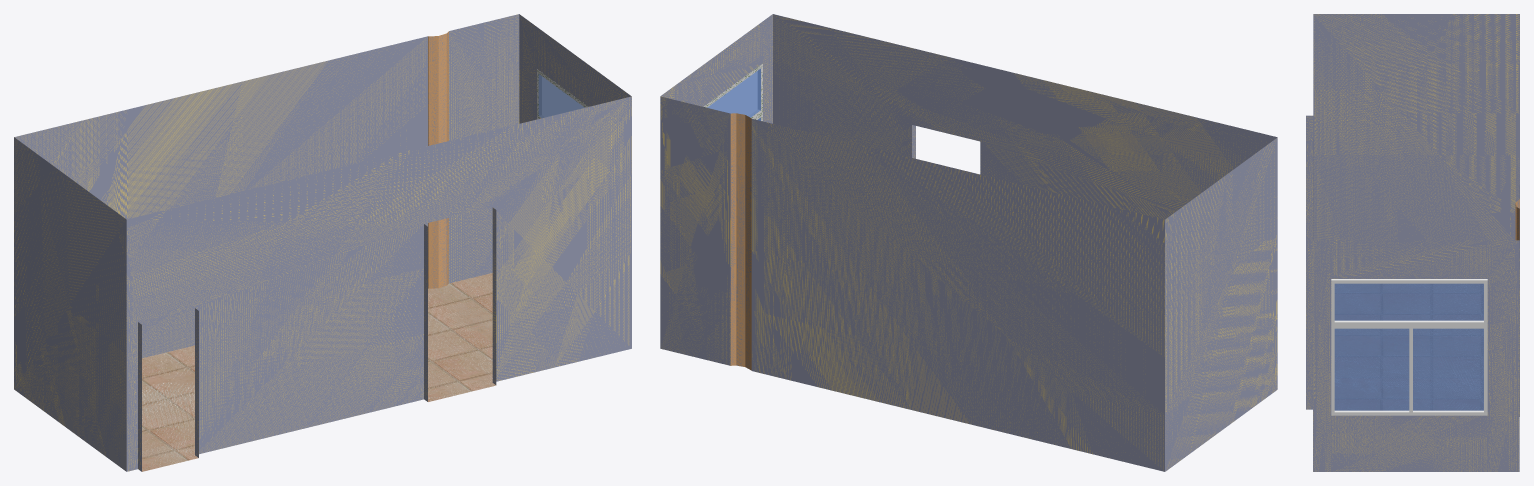
The model's file is DES014.obj.
3 renders of one model, left to right at view 1: azimuth 30°, elevation 25°; view 2: azimuth 150°, elevation 25°; view 3: azimuth 270°, elevation 25°, orthographic. The views are drawn at different scales.
Visible parts, largest first — view 1: Mesh7 DES014 Model, Mesh1 ventana1_1 DES014 Model; view 2: Mesh7 DES014 Model, Mesh1 ventana1_1 DES014 Model; view 3: Mesh7 DES014 Model, Mesh1 ventana1_1 DES014 Model.
Part boxes in pixels (x1,y1,x2,y2): Mesh7 DES014 Model: [14, 14, 631, 471]; Mesh1 ventana1_1 DES014 Model: [537, 69, 588, 119]; Mesh7 DES014 Model: [660, 14, 1277, 471]; Mesh1 ventana1_1 DES014 Model: [703, 63, 762, 121]; Mesh7 DES014 Model: [1306, 14, 1519, 471]; Mesh1 ventana1_1 DES014 Model: [1331, 279, 1487, 415].
Bounding box in the file's own units: 7.59 × 3.6 × 3.01.
8 materials, 2 textured.
